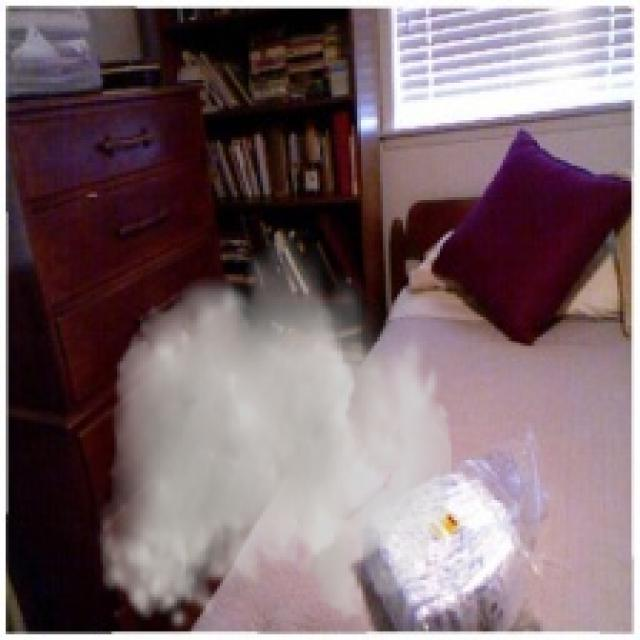smoke: (97, 226, 454, 634)
